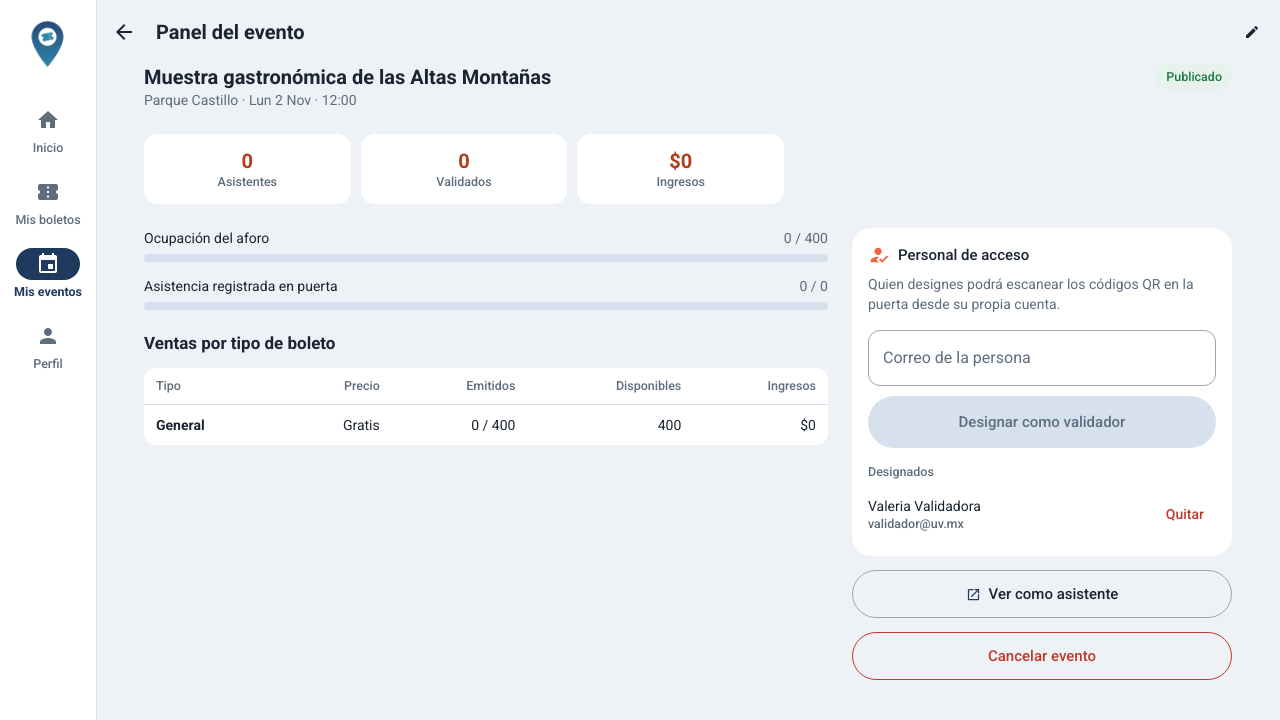
Test: organizador (RF-08, RF-13, RF-14, RF-17) › RF-14: cancela un evento mostrando la política de la API
Step 1. Click the button "Cancelar evento" → (1042, 656), box [852,632,1232,680]
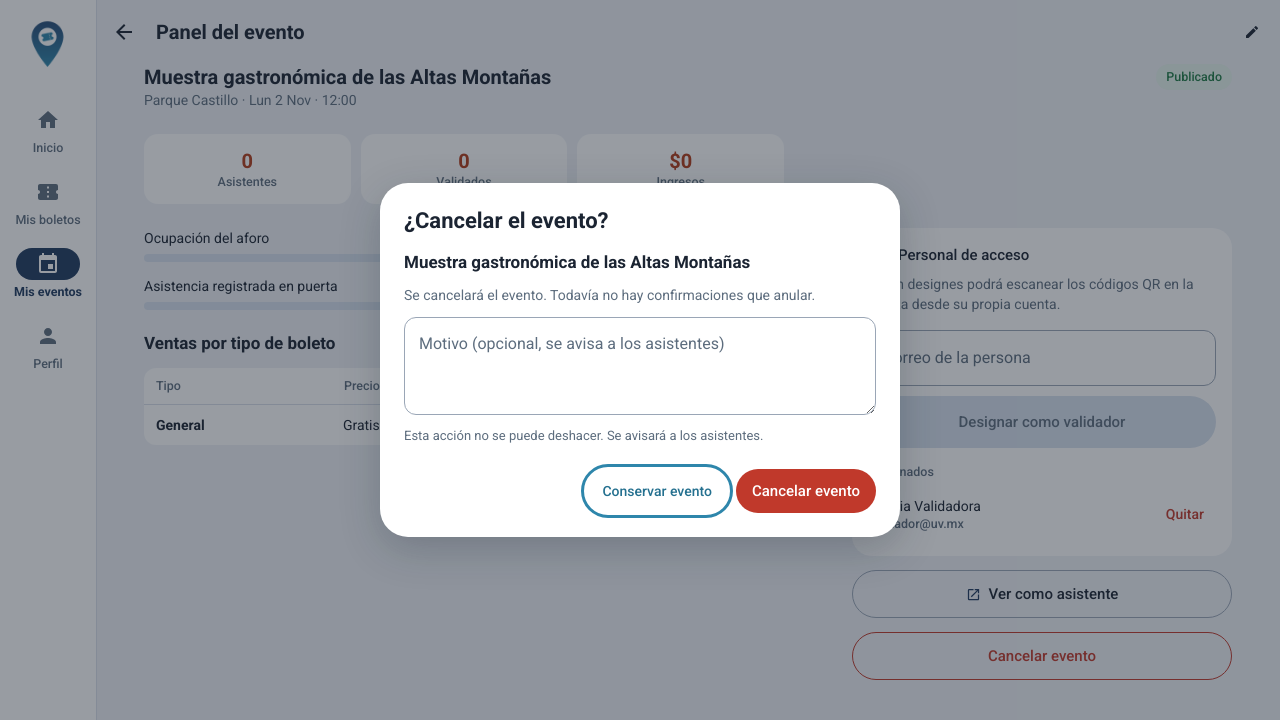
Check: the text "Se cancelará el evento" is shown, box [404,287,815,303]
Step 2. Click the button "Cancelar evento" → (806, 491), box [736,469,876,513]
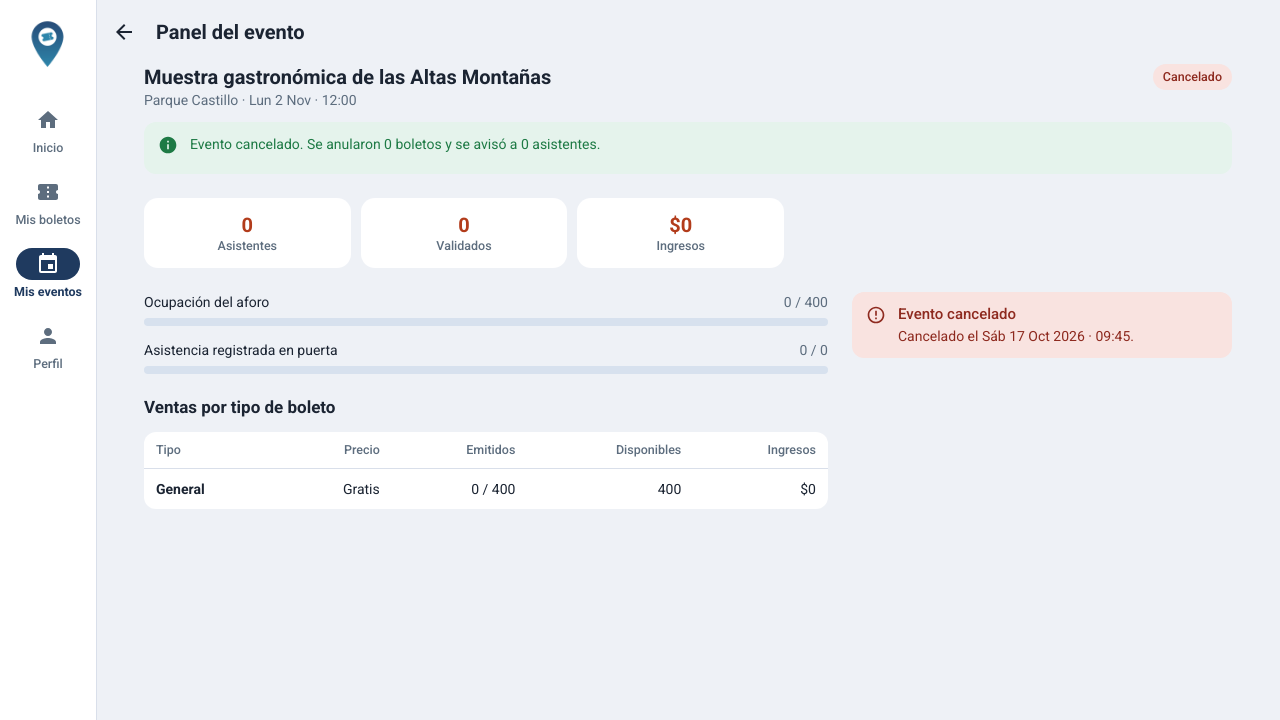
Check: the text "Evento cancelado. Se anularon" is shown, box [190,136,600,152]
